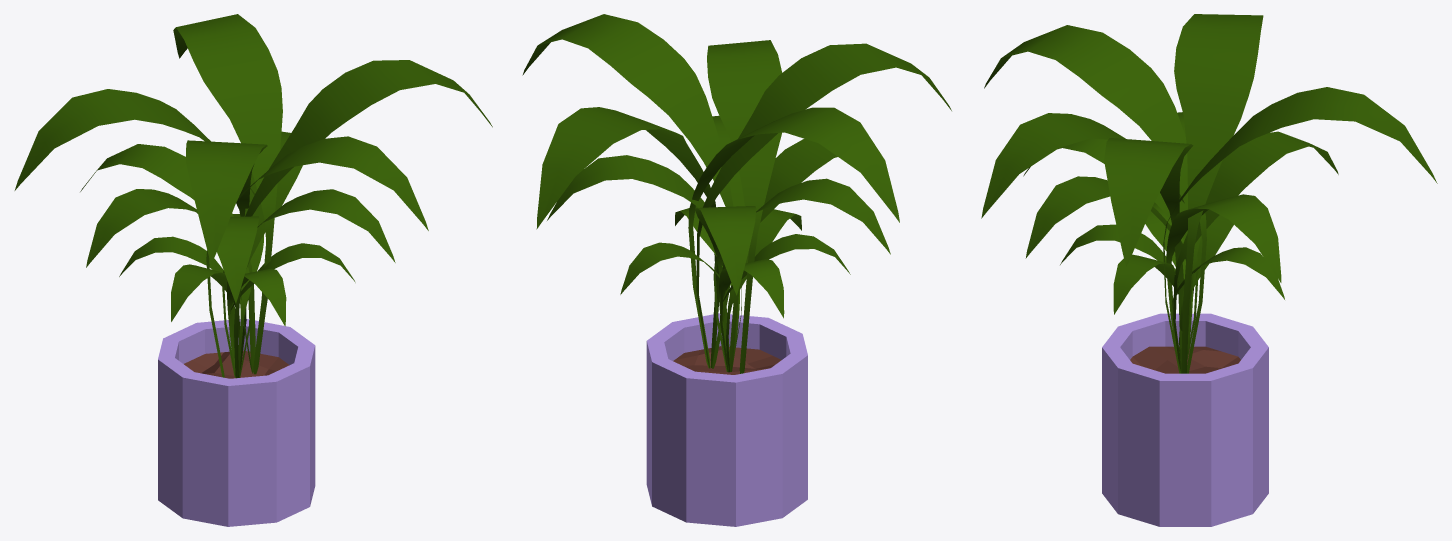
Rendered from plantPot_02.fbx.
The picture shows the model from 3 angles, left to right: view 1: azimuth 30°, elevation 25°; view 2: azimuth 150°, elevation 25°; view 3: azimuth 270°, elevation 25°; orthographic projection. The views are drawn at different scales.
Visible parts, largest first — view 1: plantPot_lowpoly_02; view 2: plantPot_lowpoly_02; view 3: plantPot_lowpoly_02.
Part boxes in pixels (left/top/right/bottom): plantPot_lowpoly_02: left=14, top=14, right=492, bottom=526; plantPot_lowpoly_02: left=522, top=14, right=951, bottom=526; plantPot_lowpoly_02: left=981, top=14, right=1437, bottom=526.
Size of the model in its own units: 109 by 98.12 by 97.73.
